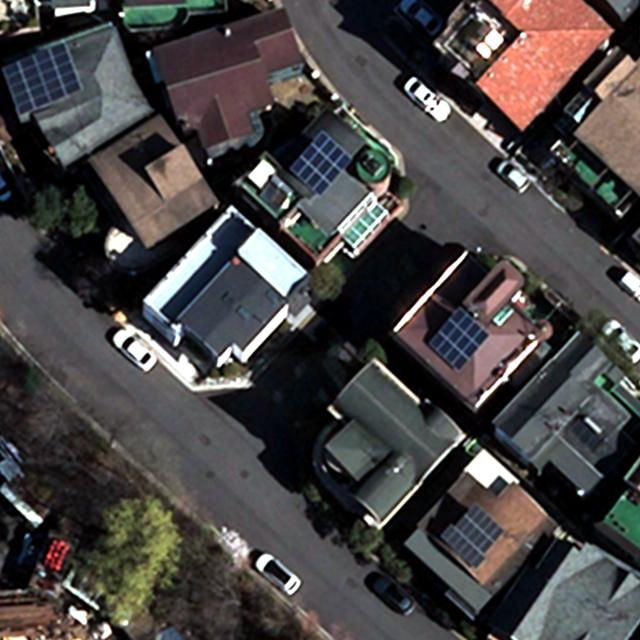solarpanel: (1, 42, 87, 116), (439, 502, 506, 573), (422, 304, 490, 373), (290, 128, 353, 199)
